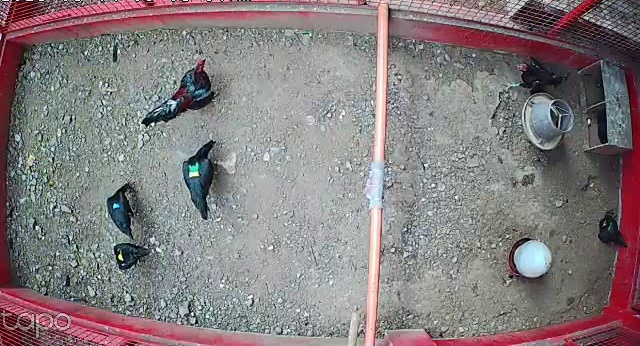Chicken: (495, 54, 573, 98), (181, 136, 221, 220), (107, 179, 141, 240), (109, 242, 156, 273), (596, 213, 632, 251)
Saddle_Color_Blue: (114, 201, 120, 209)
Saddle_Color_Yellow: (117, 249, 124, 262)
Saddle_Color_YellowGreen: (187, 160, 201, 179)
